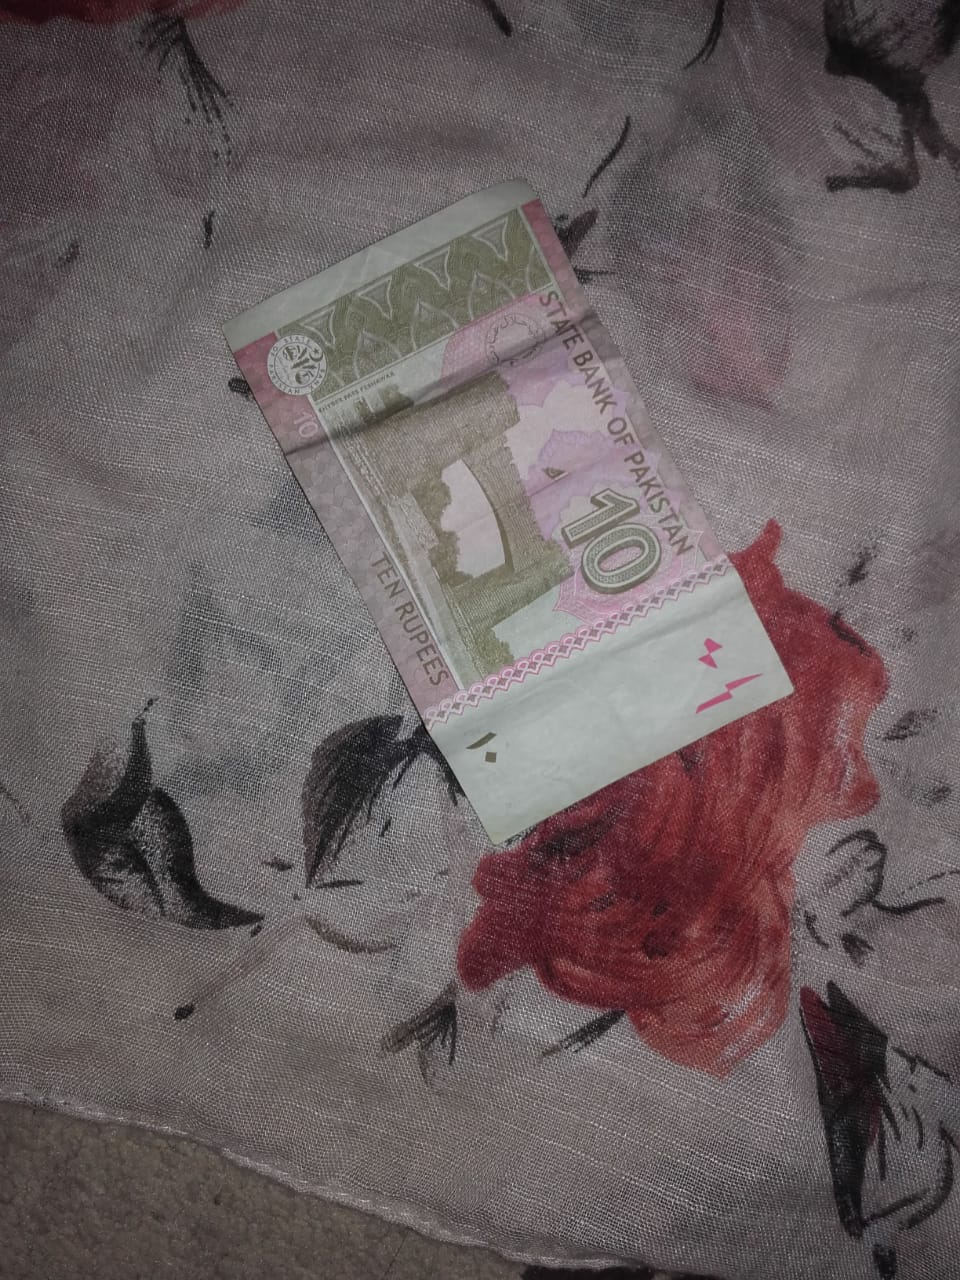10 rupee: (227, 163, 793, 831)
